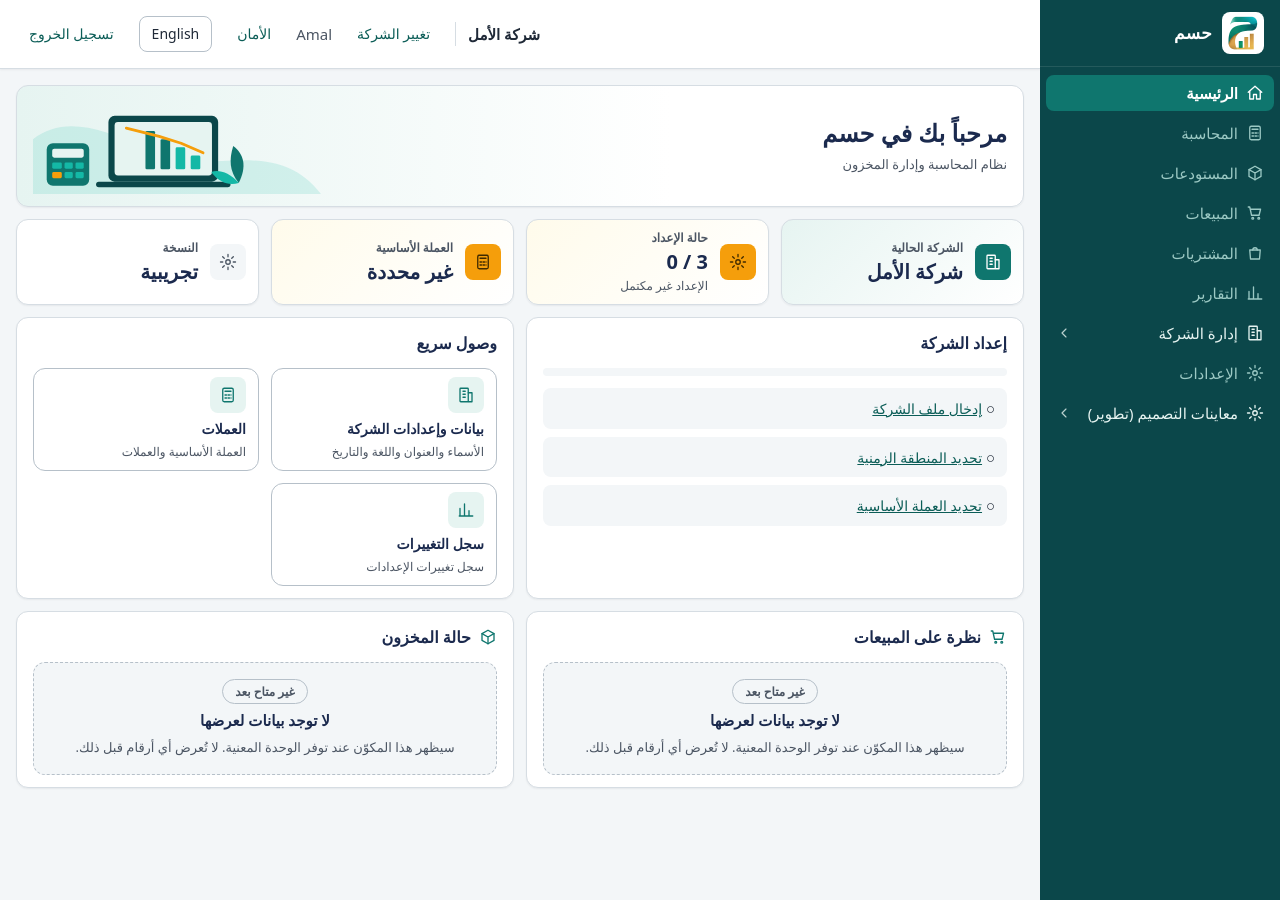
Test case: security settings screen › shows the server's mfa.required=true for a user without two-step verification
The image size is (1280, 900).
Click the button with test id "nav-security". click: (254, 34)
box: [224, 16, 284, 52]
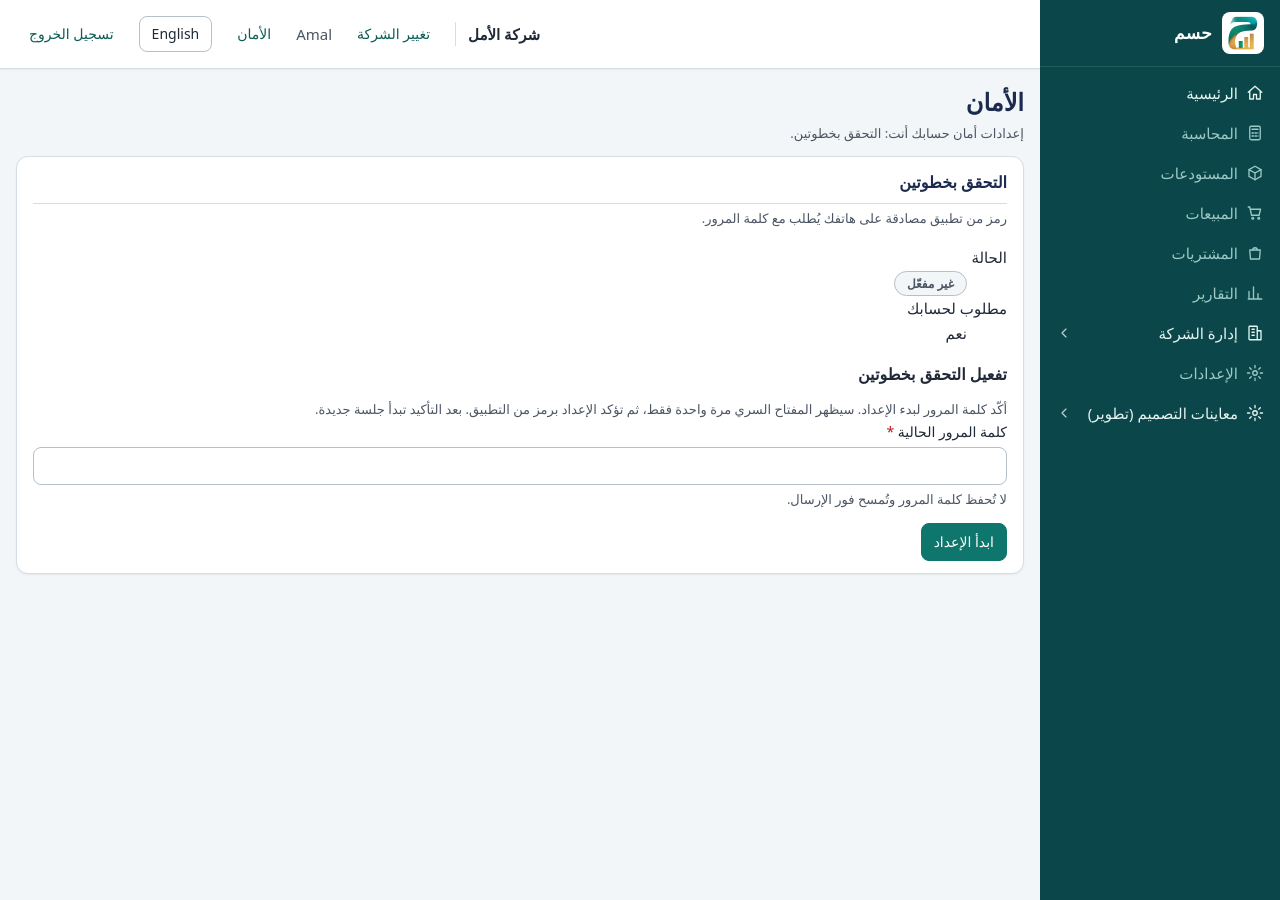
Expected: the heading "الأمان" is shown, [966, 85, 1024, 118]
Expected: the text with test id "sec-required" reads "نعم", [946, 323, 967, 343]
Expected: the element with test id "sec-enrol-begin" is shown, [33, 360, 1007, 561]
